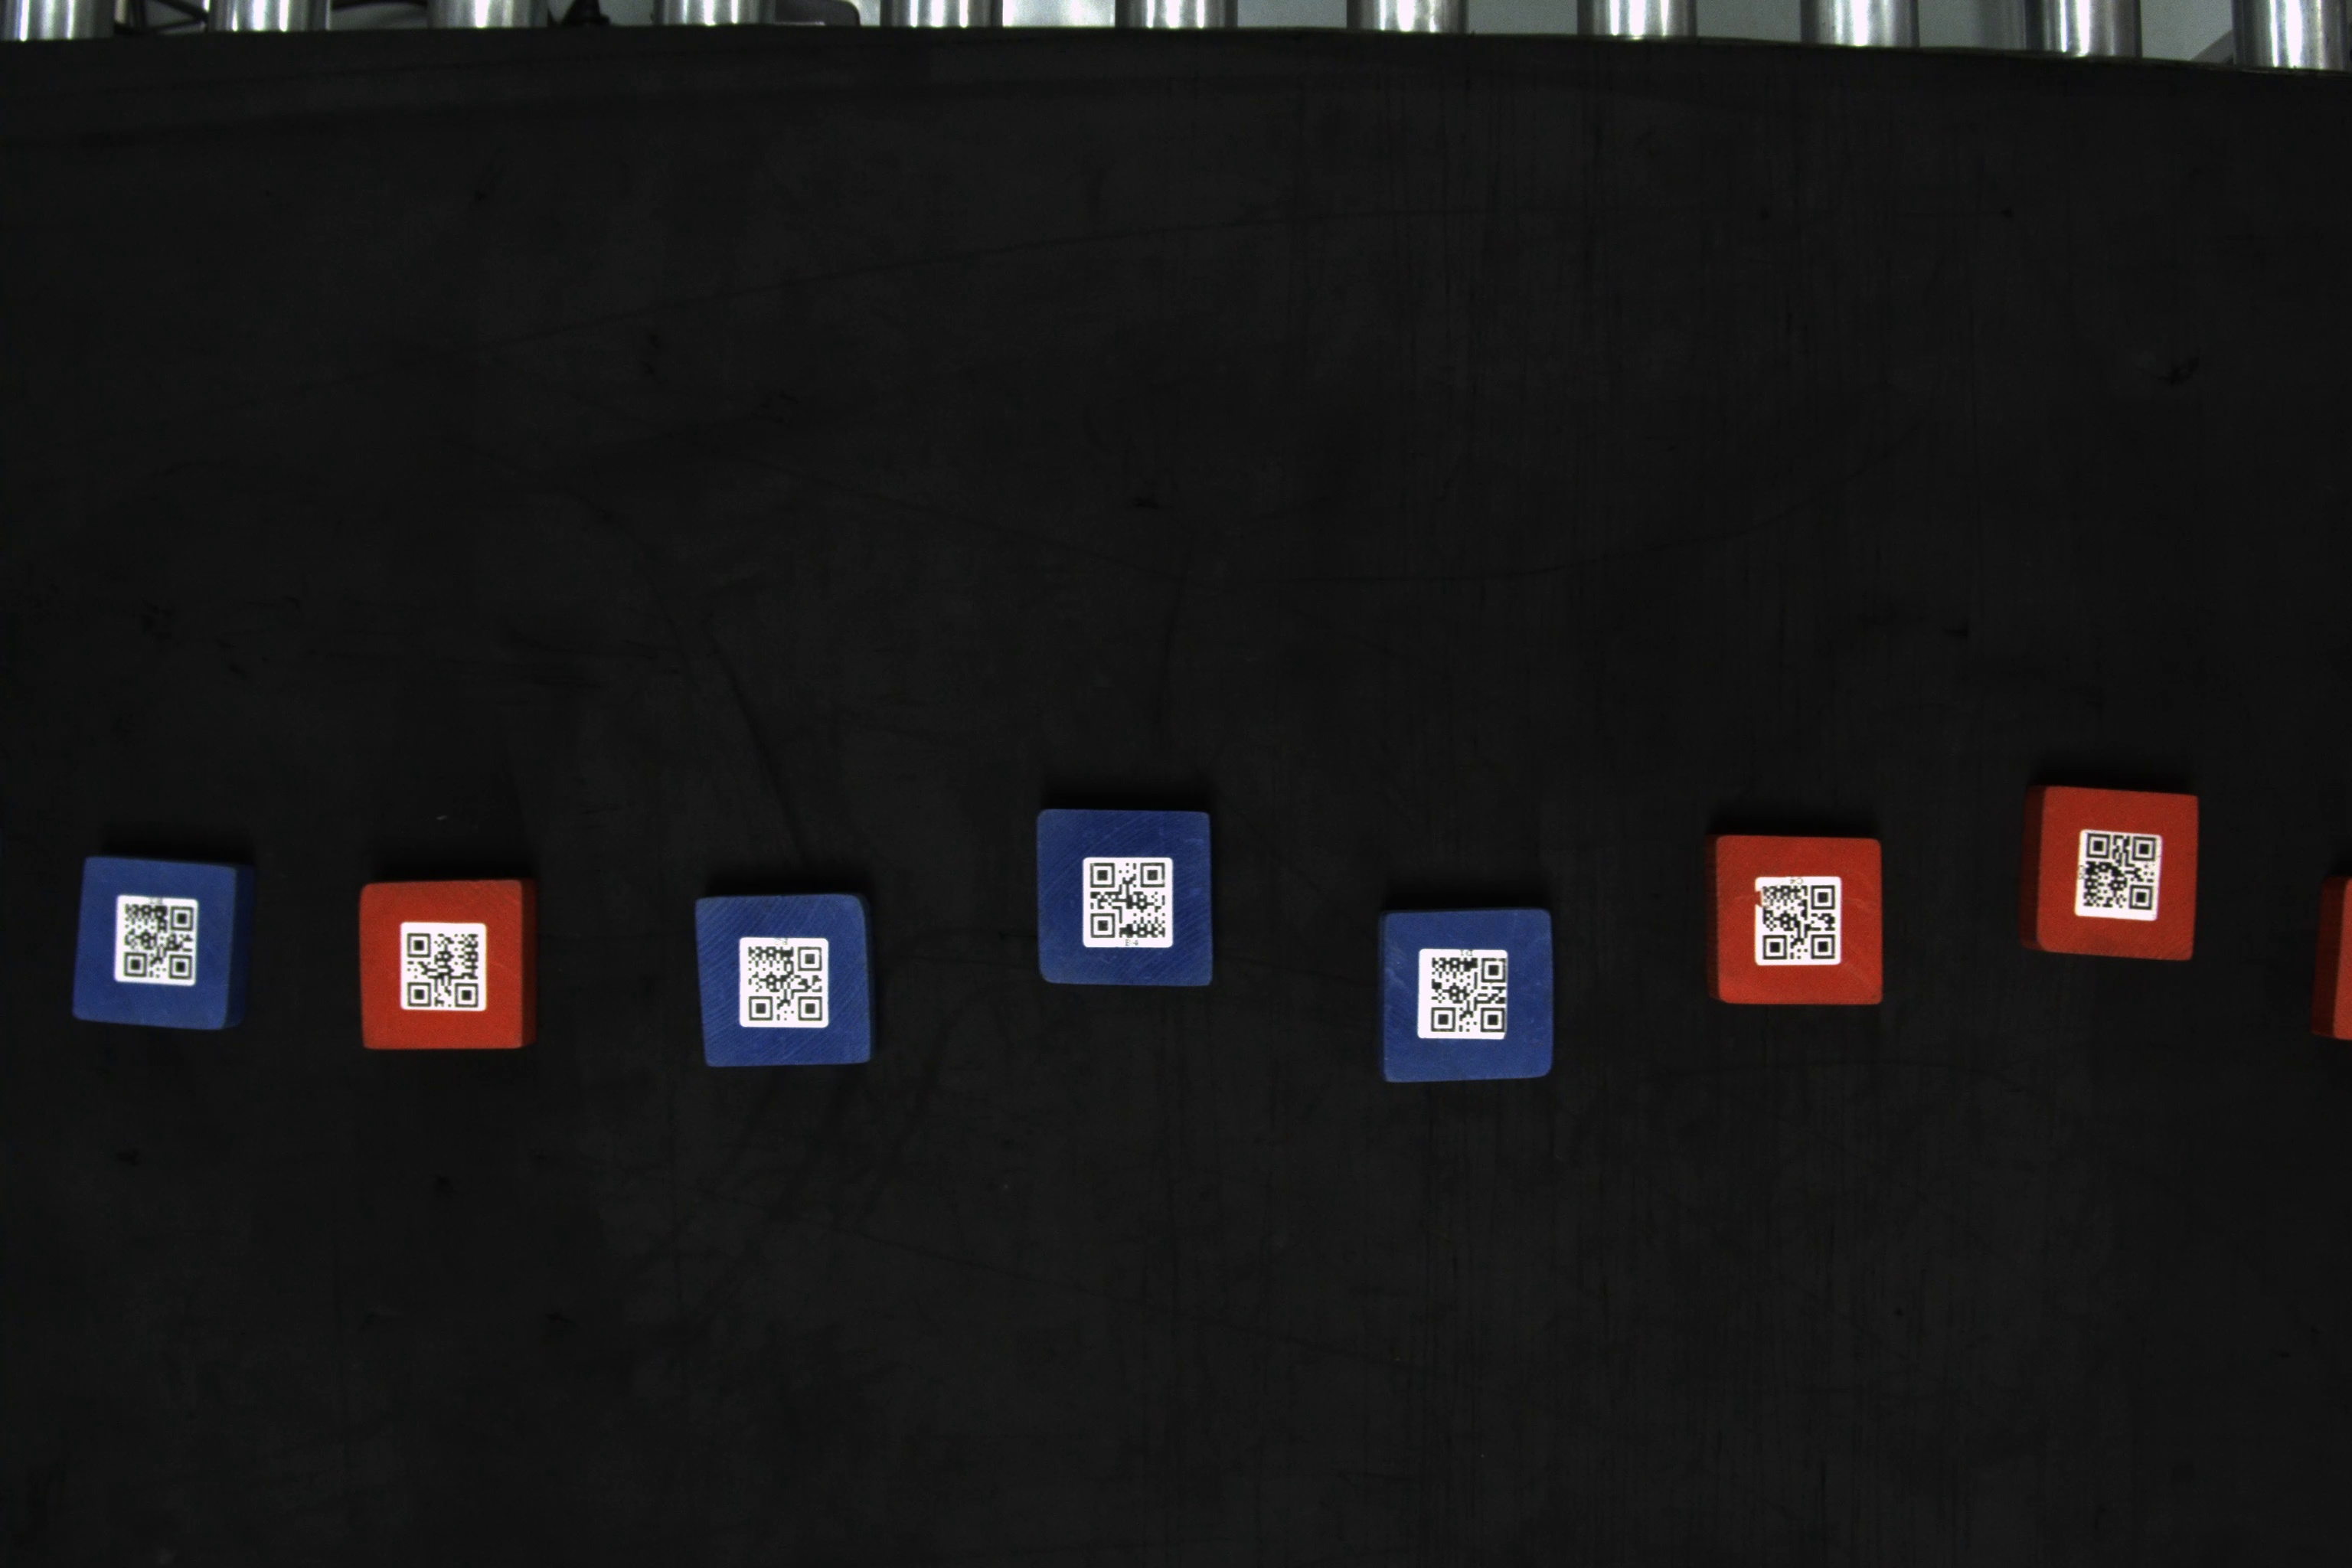wood: (2018, 779, 2210, 964), (1034, 805, 1223, 992), (352, 873, 544, 1053), (66, 849, 254, 1032), (1375, 906, 1563, 1087), (691, 889, 878, 1066), (1706, 831, 1892, 1008)
